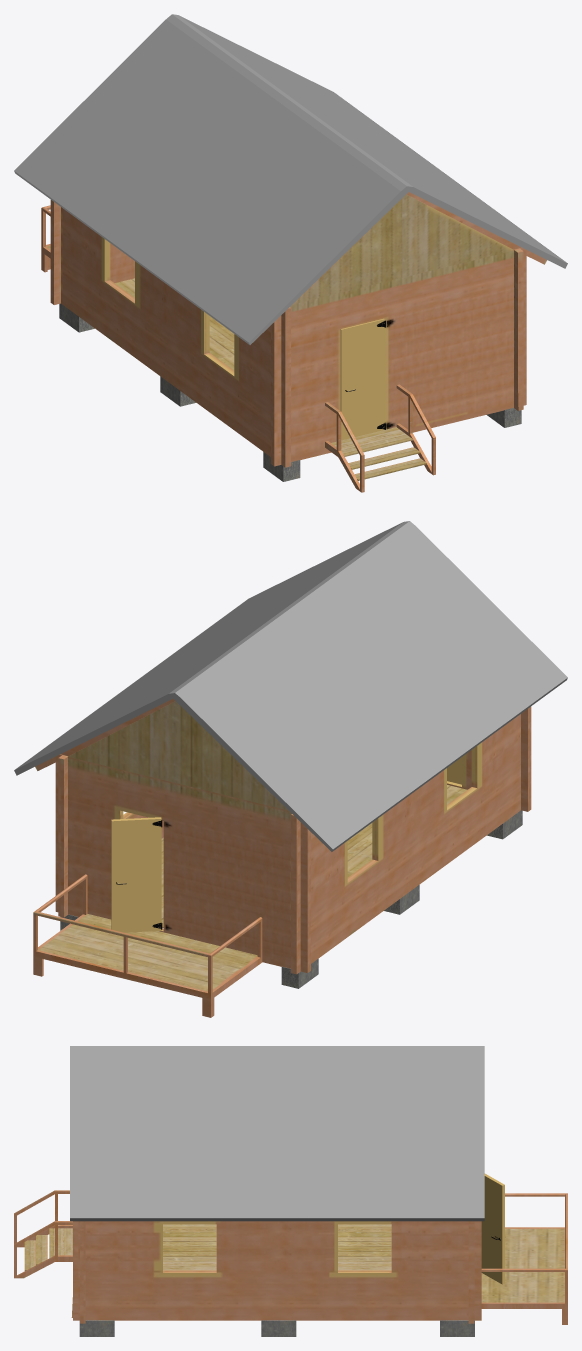
The model's file is cabin_lp.gltf.
3 views of the same model, one above another, from view 1: azimuth 30°, elevation 25°; view 2: azimuth 150°, elevation 25°; view 3: azimuth 270°, elevation 25° (orthographic). The views are drawn at different scales.
Visible parts, largest first — view 1: RoofS, FrameS, DoorS, StairS, SupportS, InsideS; view 2: RoofS, FrameS, BalconyS, DoorS2, InsideS, SupportS; view 3: RoofS, FrameS, BalconyS, InsideS, StairS, DoorS2, SupportS.
Boxes of the visible parts, x1,y1,x2,y2 form: RoofS: [14, 14, 567, 344]; FrameS: [50, 194, 526, 467]; DoorS: [340, 318, 385, 440]; StairS: [325, 384, 435, 492]; SupportS: [59, 303, 521, 481]; InsideS: [115, 192, 546, 370]; RoofS: [14, 521, 567, 851]; FrameS: [55, 701, 531, 974]; BalconyS: [33, 874, 262, 1017]; DoorS2: [111, 817, 162, 932]; InsideS: [35, 699, 467, 927]; SupportS: [60, 810, 522, 988]; RoofS: [70, 1046, 484, 1221]; FrameS: [71, 1221, 481, 1323]; BalconyS: [481, 1193, 567, 1324]; InsideS: [163, 1224, 391, 1270]; StairS: [14, 1190, 72, 1278]; DoorS2: [481, 1173, 505, 1284]; SupportS: [79, 1320, 474, 1336].
Size of the model in its own units: 5.57 by 4.52 by 9.49.
1 material, 1 textured.
